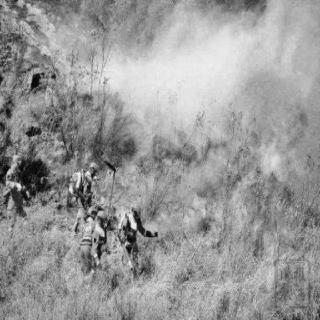Fire: (153, 106, 313, 258)
other: (61, 157, 106, 281), (2, 150, 32, 232)
